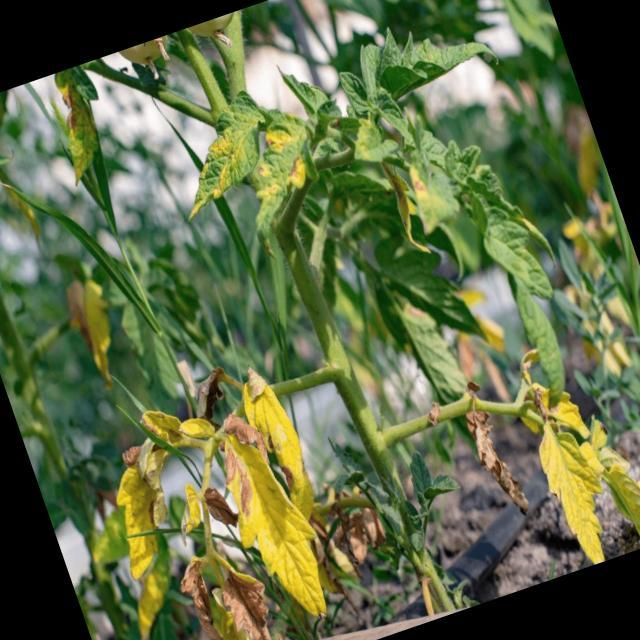Tomato yellow virus leaf: (204, 416, 345, 640), (84, 420, 200, 584), (151, 82, 288, 220), (222, 116, 340, 262), (526, 414, 620, 570), (229, 356, 317, 507), (568, 394, 640, 556), (38, 61, 128, 190), (398, 152, 468, 240), (341, 106, 404, 170)
